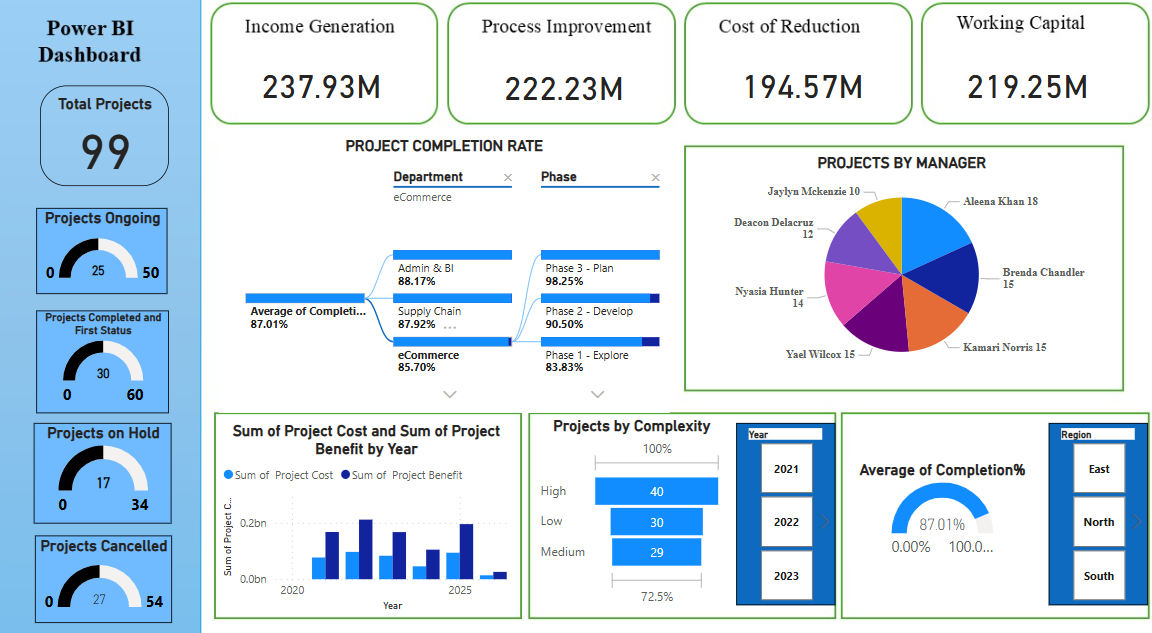

What the dashboard file says about the page in this screenshot:
{"tool":"powerbi","page":{"name":"Page 1","canvas":[1280,720],"ordinal":0},"visuals":[{"type":"card","fields":{"Values":["Project Management Dataset. Project Benefit "]},"box":[270,65.7,187.1,90],"z":0},{"type":"card","fields":{"Values":["Project Management Dataset. Project Benefit "]},"box":[537.1,67.1,187.1,90],"z":1000},{"type":"card","fields":{"Values":["Project Management Dataset. Project Benefit "]},"box":[798.6,65.7,187.1,90],"z":2000},{"type":"card","fields":{"Values":["Project Management Dataset. Project Benefit "]},"box":[1045.7,65.7,187.1,90],"z":3000},{"type":"decompositionTreeVisual","title":"PROJECT COMPLETION RATE","fields":{"Analyze":["Project Management Dataset.Completion%"],"ExplainBy":["Project Management Dataset.Department","Project Management Dataset.Phase"]},"box":[251.1,168.8,495.4,303.3],"z":4000},{"type":"pieChart","title":"PROJECTS BY MANAGER","fields":{"Category":["Project Management Dataset.Project Manager"],"Y":["Project Management Dataset.Project Type"]},"box":[769.8,186.6,462.4,248.4],"z":5000},{"type":"lineClusteredColumnComboChart","fields":{"Category":["Project Management Dataset.End Date.Variation.Date Hierarchy.Year","Project Management Dataset.End Date.Variation.Date Hierarchy.Month"],"Y":["Project Management Dataset. Project Cost ","Project Management Dataset. Project Benefit "]},"box":[251.4,481.4,324.3,212.9],"z":6000},{"type":"funnel","title":" Projects by Complexity","fields":{"Category":["Project Management Dataset.Complexity"],"Y":["Project Management Dataset.Project Name"]},"box":[599.7,476.2,209.9,211.3],"z":7000},{"type":"card","title":"Total Projects","fields":{"Values":["Project Management Dataset.Project Name"]},"box":[54.3,112.9,141.4,110],"z":8000},{"type":"gauge","fields":{"Y":["Project Management Dataset.Status"]},"box":[51.4,247.1,144.3,94.3],"z":9000},{"type":"gauge","fields":{"Y":["Project Management Dataset.Status"]},"box":[51.4,360,145.7,112.9],"z":10000},{"type":"gauge","fields":{"Y":["Project Management Dataset.Status"]},"box":[48.6,482.9,151.4,110],"z":11000},{"type":"gauge","fields":{"Y":["Project Management Dataset.Completion%"]},"box":[940,524.2,211.3,116.6],"z":12000},{"type":"gauge","fields":{"Y":["Project Management Dataset.Status"]},"box":[50,607.1,150,95.7],"z":13000},{"type":"slicer","fields":{"Values":["Project Management Dataset.Year"]},"box":[819.2,483,108.4,200.3],"z":14000},{"type":"slicer","fields":{"Values":["Project Management Dataset.Region"]},"box":[1162.3,483,108.4,200.3],"z":15000}]}

Visuals, with their boxes in screenshot pixels (x1, y1, x2, y2), scaled from the page's 1280x720 canvas onto the 1152x633 screenshot:
card - Project Management Dataset. Project Benefit : bbox(243, 58, 411, 137)
card - Project Management Dataset. Project Benefit : bbox(483, 59, 652, 138)
card - Project Management Dataset. Project Benefit : bbox(719, 58, 887, 137)
card - Project Management Dataset. Project Benefit : bbox(941, 58, 1110, 137)
"PROJECT COMPLETION RATE" decompositionTreeVisual: bbox(226, 148, 672, 415)
"PROJECTS BY MANAGER" pieChart: bbox(693, 164, 1109, 382)
lineClusteredColumnComboChart - Project Management Dataset.End Date.Variation.Date Hierarchy.Year x Project Management Dataset.End Date.Variation.Date Hierarchy.Month: bbox(226, 423, 518, 610)
" Projects by Complexity" funnel: bbox(540, 419, 729, 604)
"Total Projects" card: bbox(49, 99, 176, 196)
gauge - Project Management Dataset.Status: bbox(46, 217, 176, 300)
gauge - Project Management Dataset.Status: bbox(46, 316, 177, 416)
gauge - Project Management Dataset.Status: bbox(44, 425, 180, 521)
gauge - Project Management Dataset.Completion%: bbox(846, 461, 1036, 563)
gauge - Project Management Dataset.Status: bbox(45, 534, 180, 618)
slicer - Project Management Dataset.Year: bbox(737, 425, 835, 601)
slicer - Project Management Dataset.Region: bbox(1046, 425, 1144, 601)
